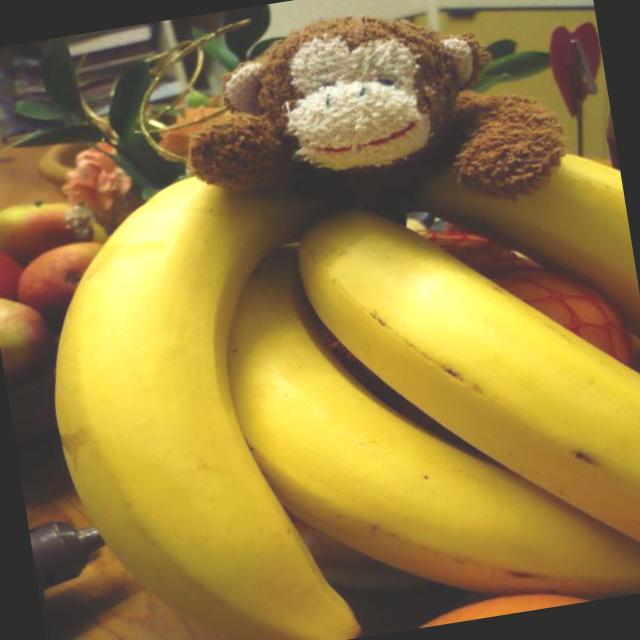Banana: (24, 110, 640, 640)
